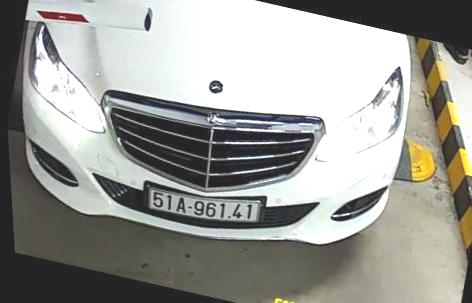License_Plate: (142, 184, 270, 228)
